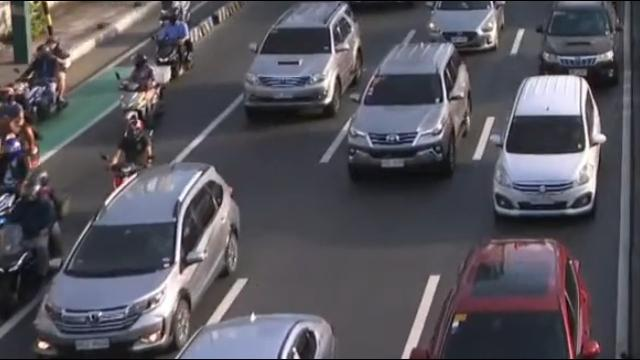car: (32, 158, 234, 360), (418, 240, 601, 360), (344, 42, 475, 180), (482, 70, 605, 215), (241, 0, 365, 115), (175, 308, 338, 360), (538, 0, 624, 57), (426, 0, 509, 56)
motorcycle: (0, 170, 60, 310), (13, 38, 72, 123), (100, 109, 156, 191), (113, 53, 165, 124), (150, 2, 195, 84)
